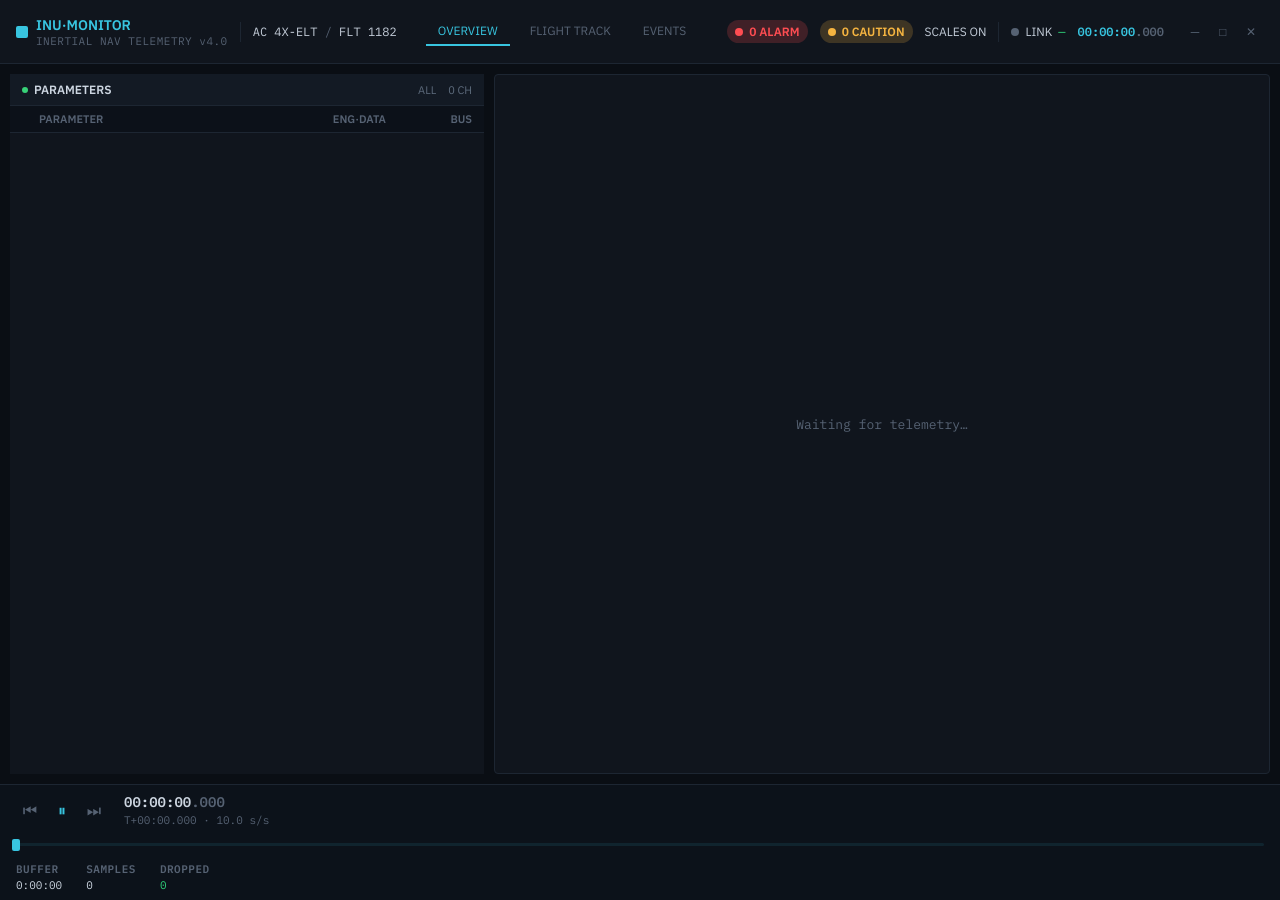
Test: AppShell › shows the overview view by default and switches tabs
Click the text "EVENTS" at (664,30), box [643, 23, 686, 38]
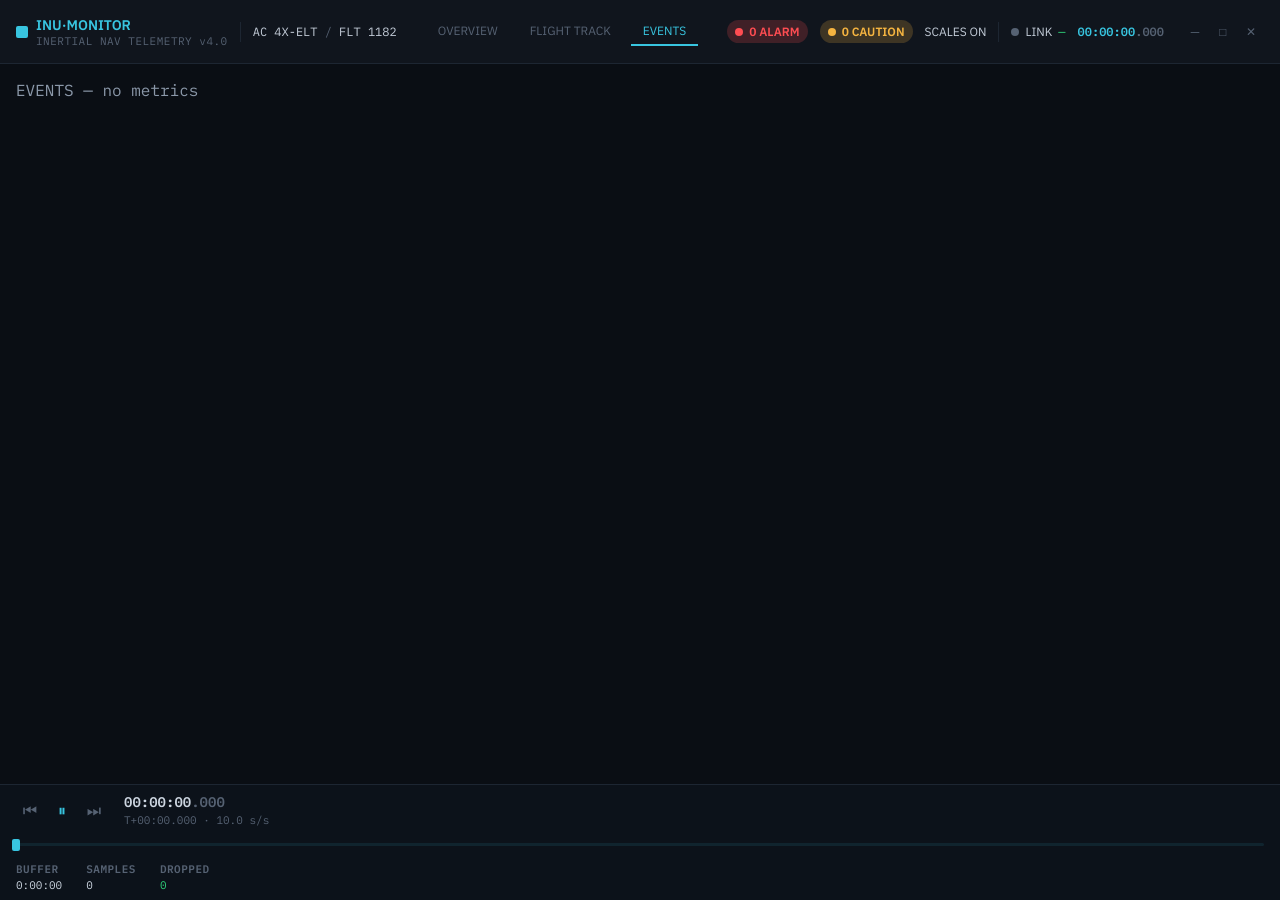
Expected: the text "EVENTS — no metrics" is shown, [16, 80, 198, 100]
Expected: the element with test id "view-overview" is gone
